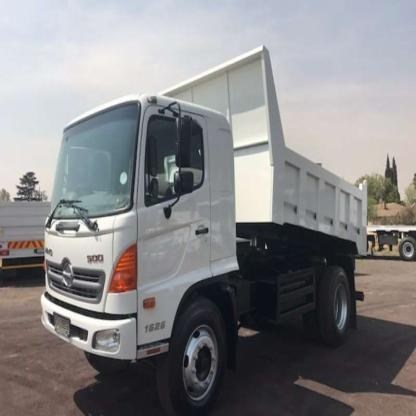dump_truck: (38, 35, 374, 411)
